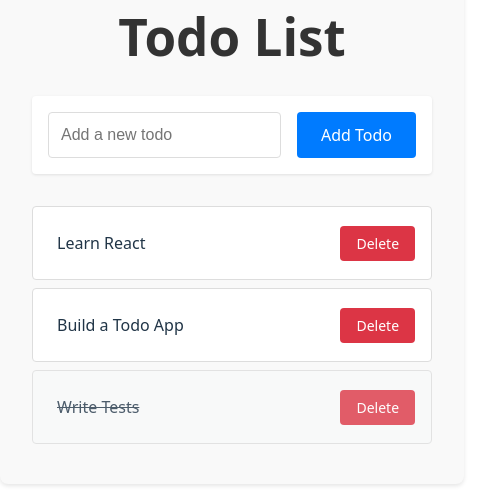
Scenario: TodoList Component › deletes the correct todo when multiple exist
Check: the text "Learn React" is shown, box 57,232 -> 146,254
Check: the text "Build a Todo App" is shown, box 57,314 -> 184,336
Click the button "Delete" next to "Build a Todo App": click(378, 325) 340,308 -> 415,343
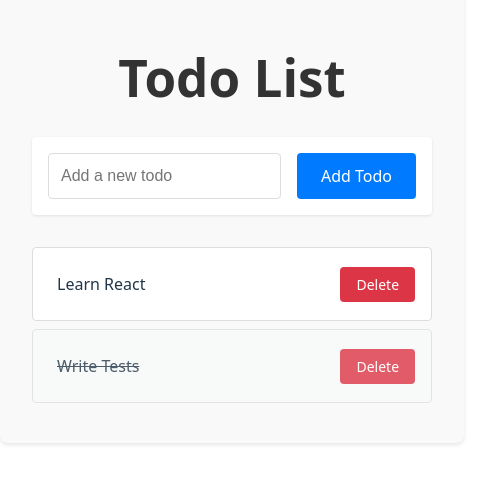
Check: the text "Learn React" is shown, box 57,273 -> 146,295
Check: the text "Build a Todo App" is gone
